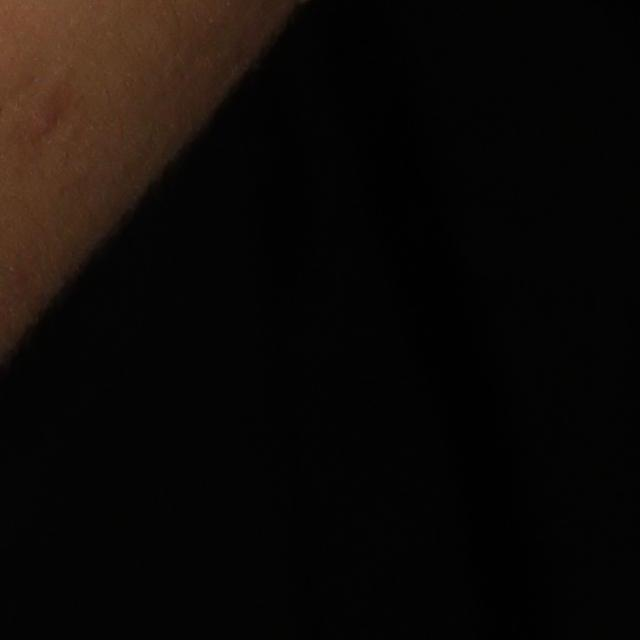papule: (21, 89, 62, 138)
